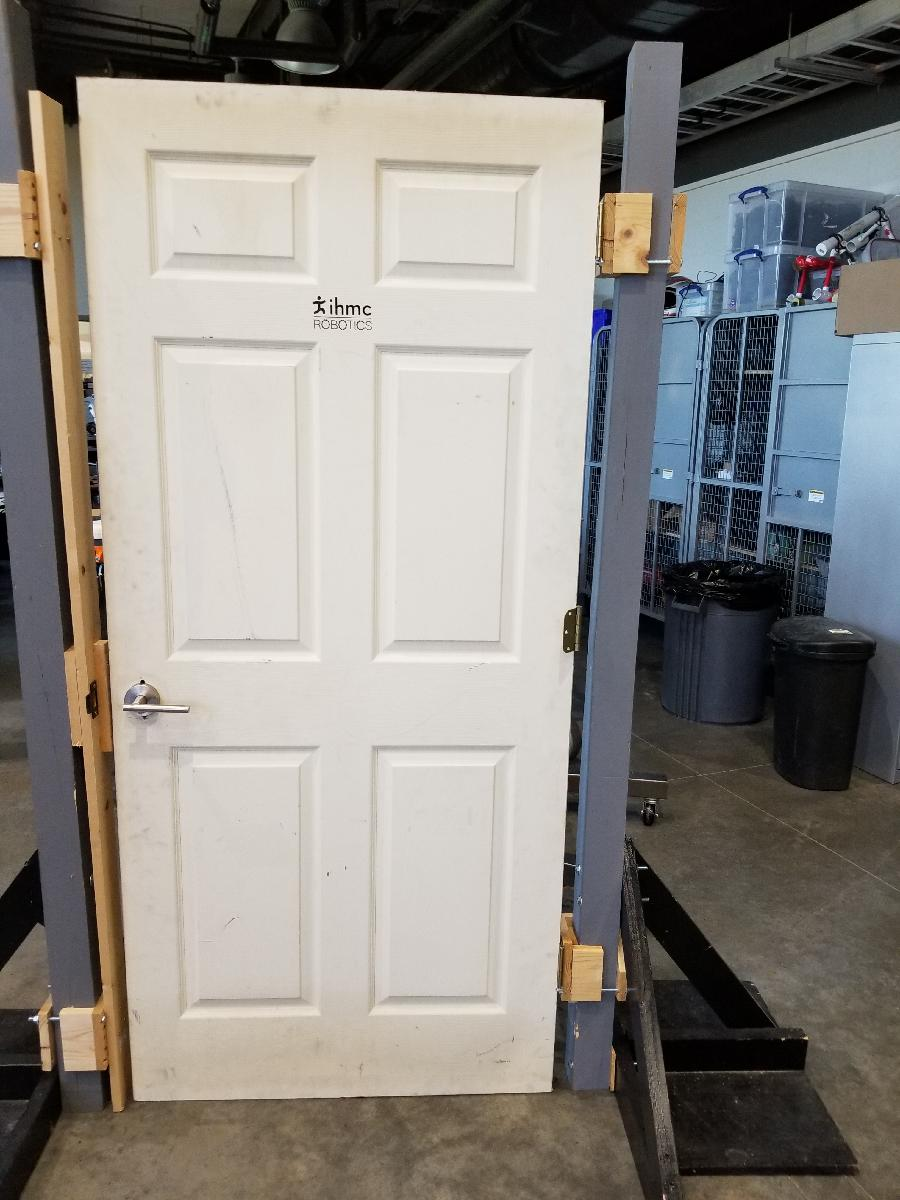door: (68, 70, 608, 1108)
doorHandle: (117, 676, 195, 729)
